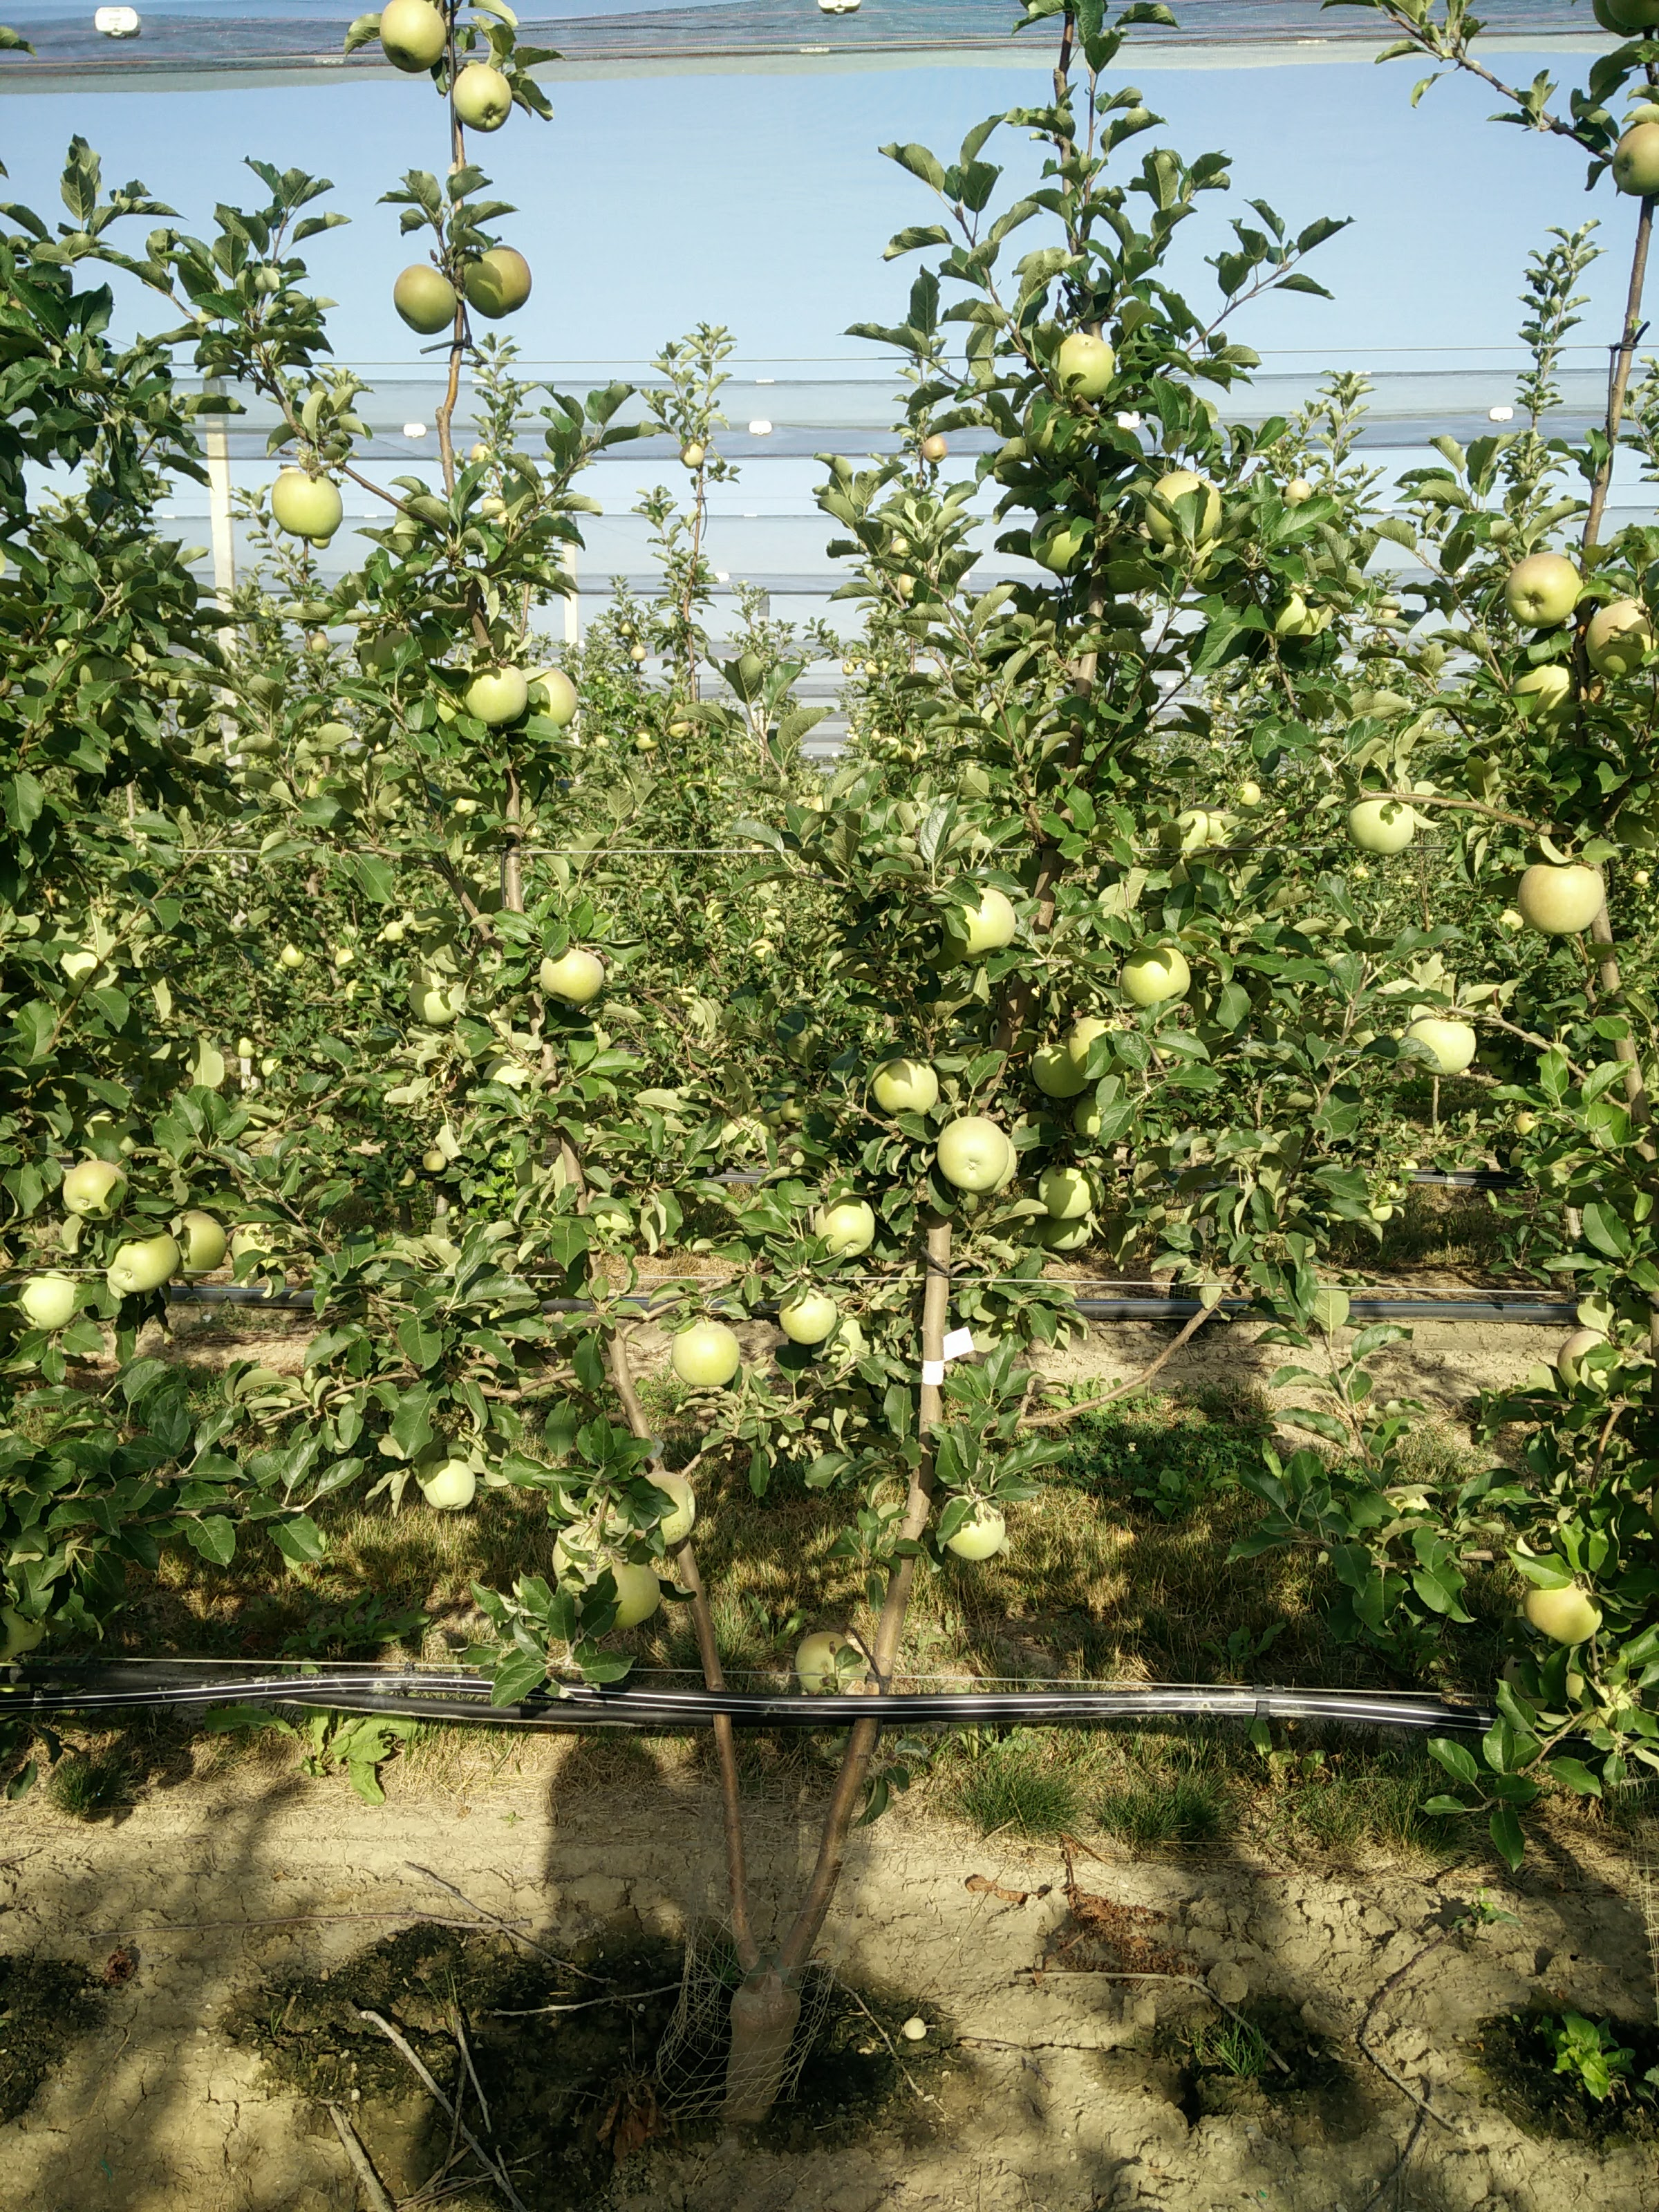apple: (1511, 854, 1611, 940), (1040, 330, 1125, 411), (1499, 552, 1584, 628), (1143, 469, 1222, 546), (939, 885, 1018, 962), (930, 1116, 1013, 1190), (1524, 1569, 1603, 1642), (459, 248, 534, 320), (388, 265, 461, 340), (102, 1222, 179, 1293), (668, 1319, 747, 1388), (270, 467, 345, 538), (1118, 944, 1195, 1014), (868, 1058, 946, 1125), (939, 1495, 1011, 1564), (379, 1, 444, 75), (458, 658, 529, 727), (1347, 791, 1421, 856), (1407, 1009, 1477, 1075), (539, 939, 607, 1007), (19, 1266, 90, 1331), (809, 1192, 880, 1256), (169, 1202, 230, 1275), (773, 1288, 842, 1351), (452, 67, 514, 135), (59, 1157, 126, 1220), (422, 1459, 478, 1514)
